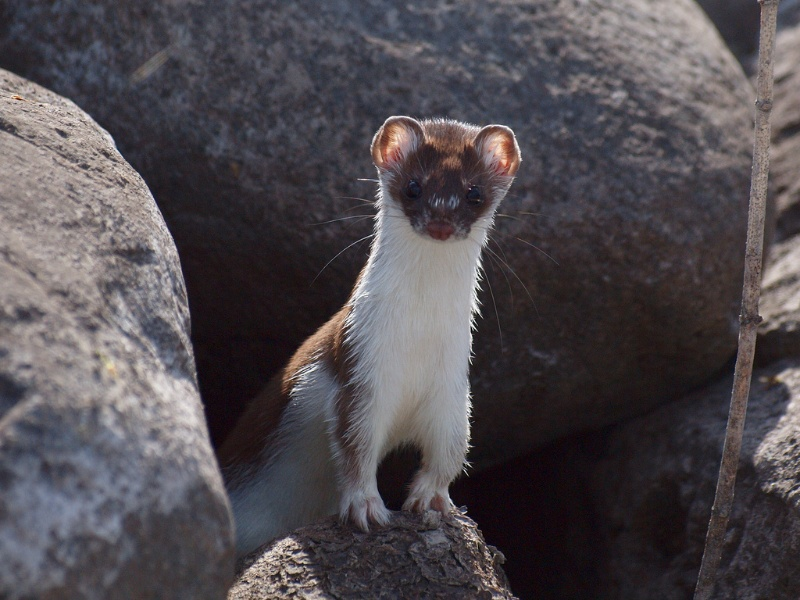minkish: (201, 111, 526, 569)
